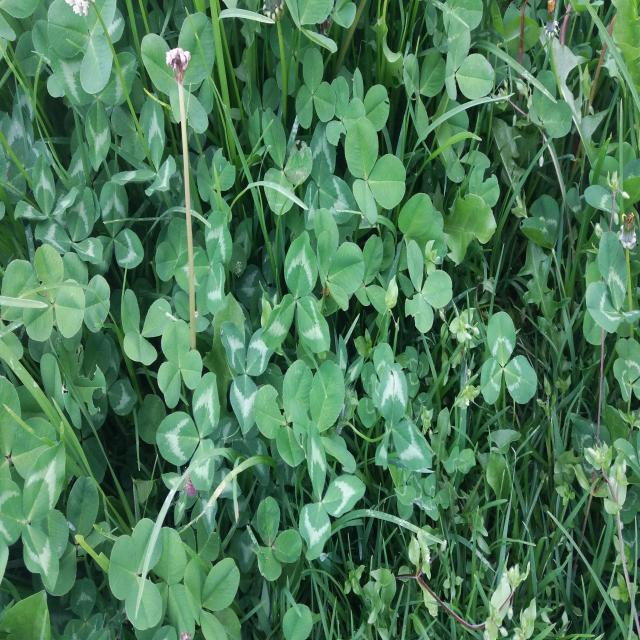Four Leaf Clover: (314, 208, 365, 312)
